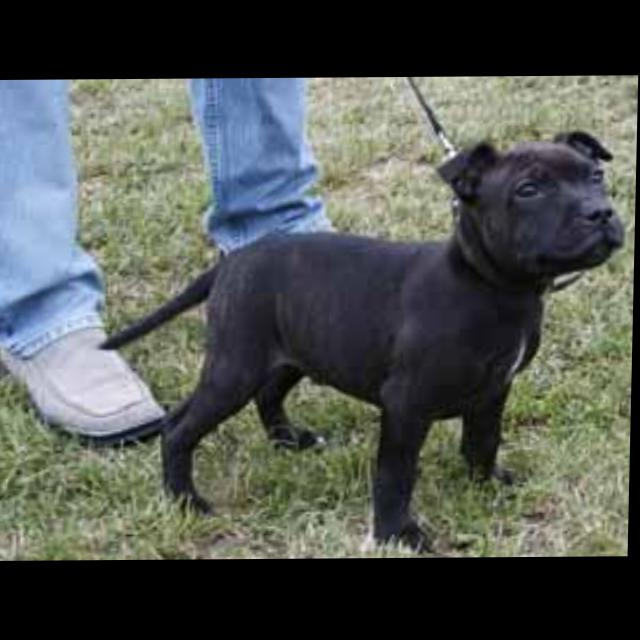staffford: (99, 128, 631, 556)
